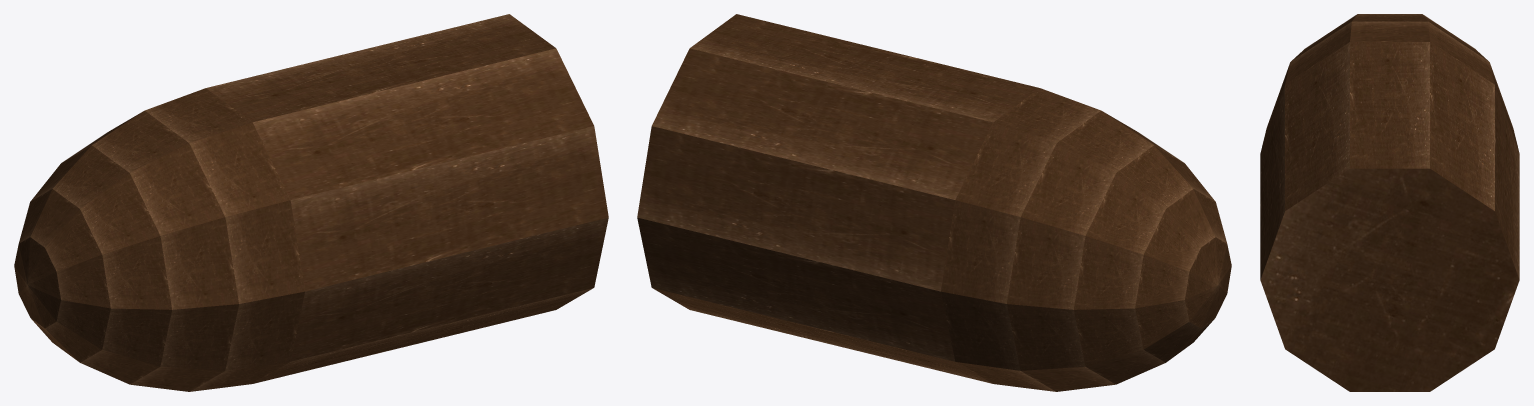
Rendered from bullet.obj.
3 renders of one model, left to right at view 1: azimuth 30°, elevation 25°; view 2: azimuth 150°, elevation 25°; view 3: azimuth 270°, elevation 25°, orthographic. The views are drawn at different scales.
Parts seen in each view (by area): view 1: Sphere; view 2: Sphere; view 3: Sphere.
Part boxes in pixels (<box>): Sphere: <box>14,14,608,391</box>; Sphere: <box>637,14,1231,391</box>; Sphere: <box>1260,14,1519,391</box>.
Size of the model in its own units: 3.84 by 1.9 by 2.
Materials: 1 (1 with a texture image).
